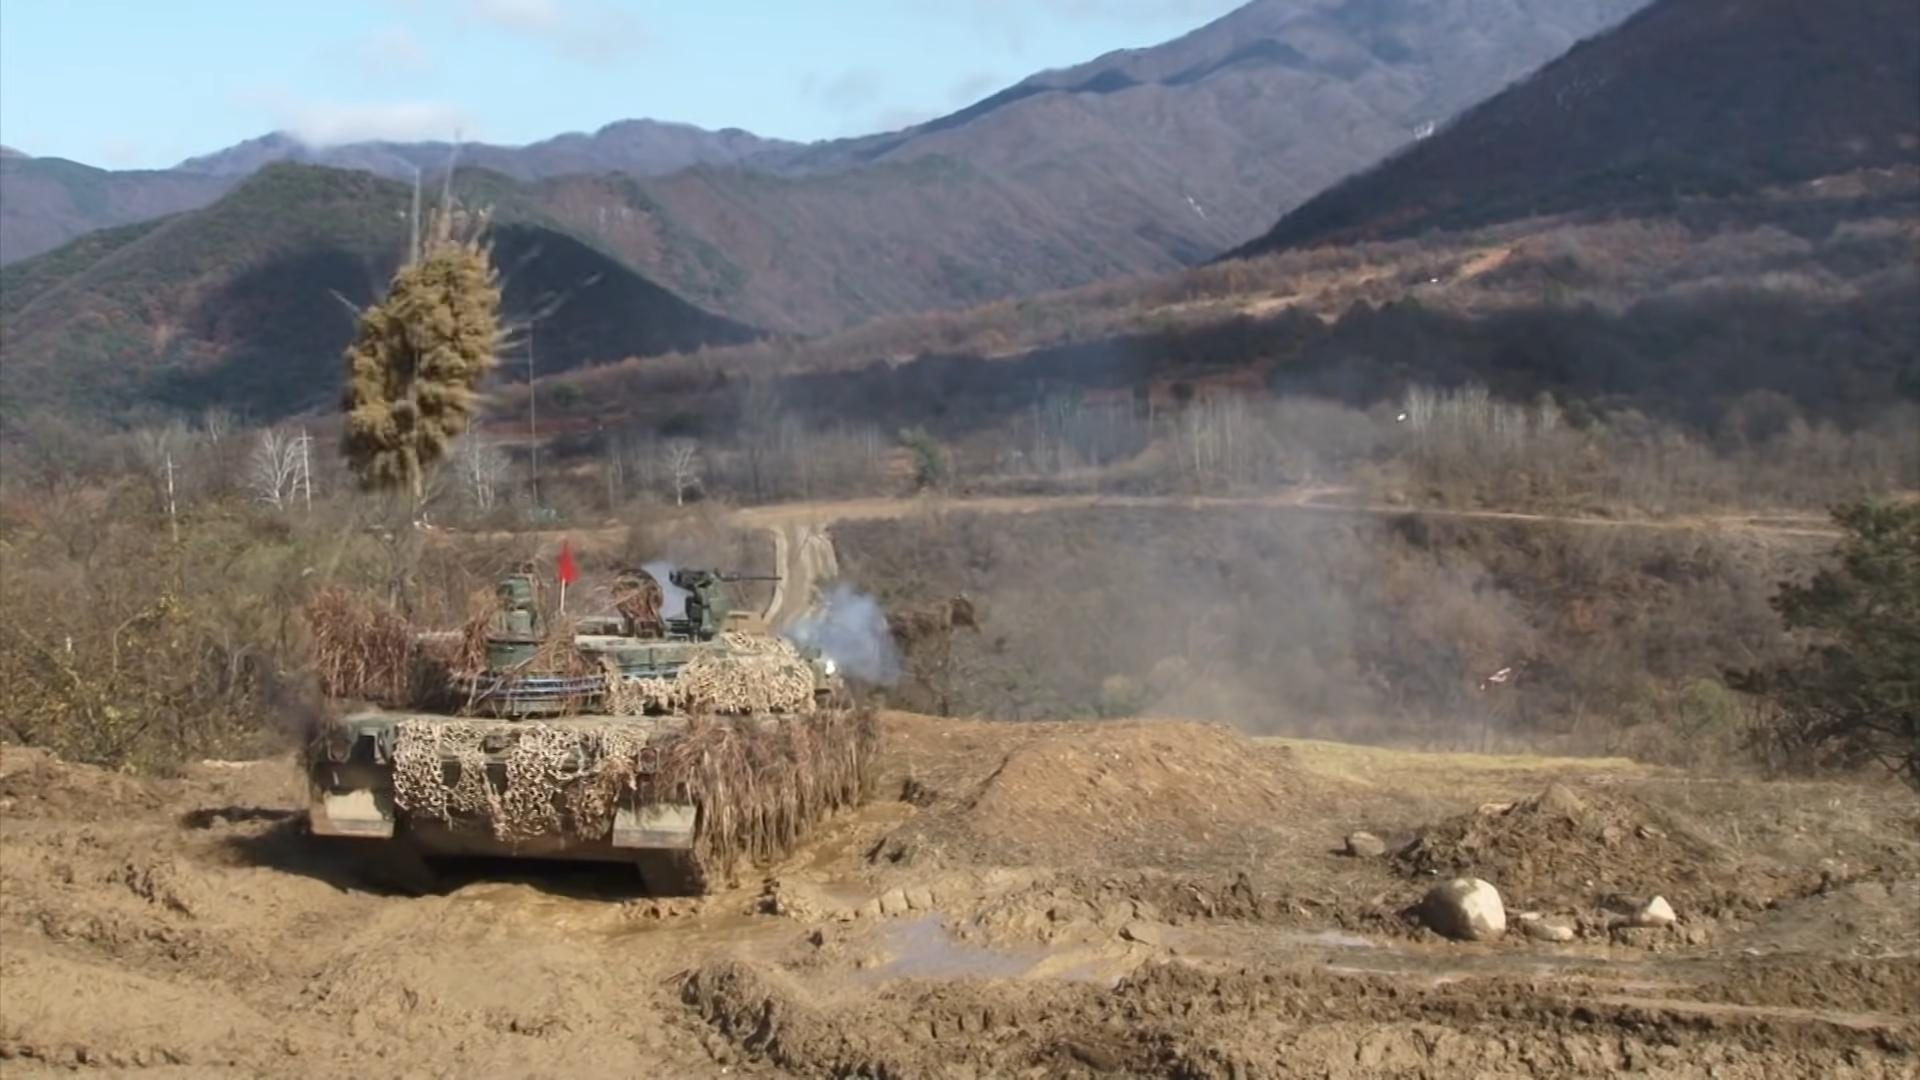tank: (306, 559, 976, 903)
